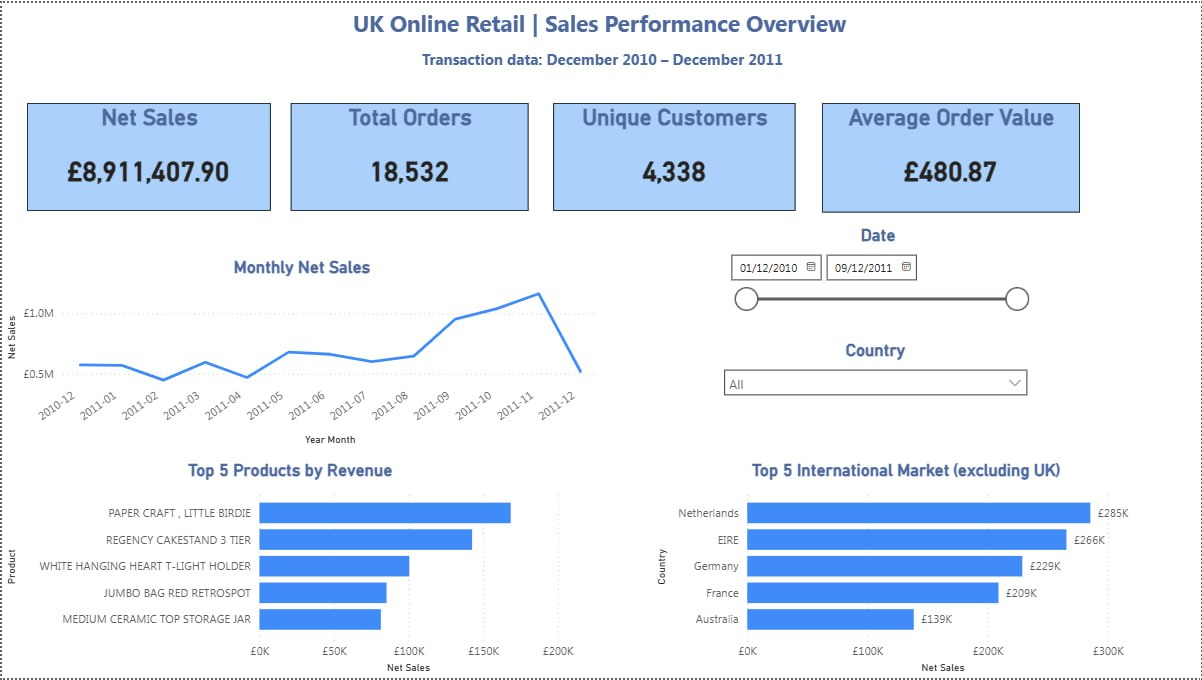

The page's visual inventory and layout, read from the dashboard file:
{"tool":"powerbi","page":{"name":"Sales Overview","canvas":[1280,720],"ordinal":0},"visuals":[{"type":"textbox","box":[0,0,1280.8,44.2],"z":0},{"type":"textbox","box":[0,0,1280.8,44.2],"z":1000},{"type":"textbox","box":[0,44.2,1280.8,50],"z":2000},{"type":"card","title":"Net Sales","fields":{"Values":["_Measures.Net Sales"]},"box":[26.7,106.7,260,115],"z":3000},{"type":"card","title":"Total Orders","fields":{"Values":["_Measures.Total Orders"]},"box":[308.3,106.7,253.3,115],"z":4000},{"type":"card","title":"Unique Customers","fields":{"Values":["_Measures.Unique Customers"]},"box":[588.3,106.7,258.3,115],"z":5000},{"type":"card","title":"Average Order Value","fields":{"Values":["_Measures.Average Order Value"]},"box":[875,106.7,275,116.7],"z":6000},{"type":"lineChart","title":"Monthly Net Sales","fields":{"Category":["DateTable.Year Month"],"Y":["_Measures.Net Sales"]},"box":[0,270,640,206.7],"z":7000},{"type":"clusteredBarChart","title":"Top 5 Products by Revenue","fields":{"Category":["public vw_valid_sales.product_name"],"Y":["_Measures.Net Sales"]},"box":[0,488.3,615,231.7],"z":8000},{"type":"clusteredBarChart","title":"Top 5 International Market (excluding UK)","fields":{"Category":["public vw_valid_sales.country"],"Y":["_Measures.Net Sales"]},"box":[693.3,488.3,541.7,231.7],"z":9000},{"type":"slicer","title":"Date","fields":{"Values":["DateTable.Date"]},"box":[765,236.7,338.3,136.7],"z":10000},{"type":"slicer","title":"Country","fields":{"Values":["public vw_valid_sales.country"]},"box":[760,360,343.3,101.7],"z":11000}]}

Visuals, with their boxes in screenshot pixels (x1, y1, x2, y2), scaled from the page's 1280x720 canvas onto the 1202x680 screenshot:
textbox: [left=0, top=0, right=1201, bottom=42]
textbox: [left=0, top=0, right=1201, bottom=42]
textbox: [left=0, top=42, right=1201, bottom=89]
"Net Sales" card: [left=25, top=101, right=269, bottom=209]
"Total Orders" card: [left=290, top=101, right=527, bottom=209]
"Unique Customers" card: [left=552, top=101, right=795, bottom=209]
"Average Order Value" card: [left=822, top=101, right=1080, bottom=211]
"Monthly Net Sales" lineChart: [left=0, top=255, right=601, bottom=450]
"Top 5 Products by Revenue" clusteredBarChart: [left=0, top=461, right=578, bottom=679]
"Top 5 International Market (excluding UK)" clusteredBarChart: [left=651, top=461, right=1160, bottom=679]
"Date" slicer: [left=718, top=224, right=1036, bottom=353]
"Country" slicer: [left=714, top=340, right=1036, bottom=436]
